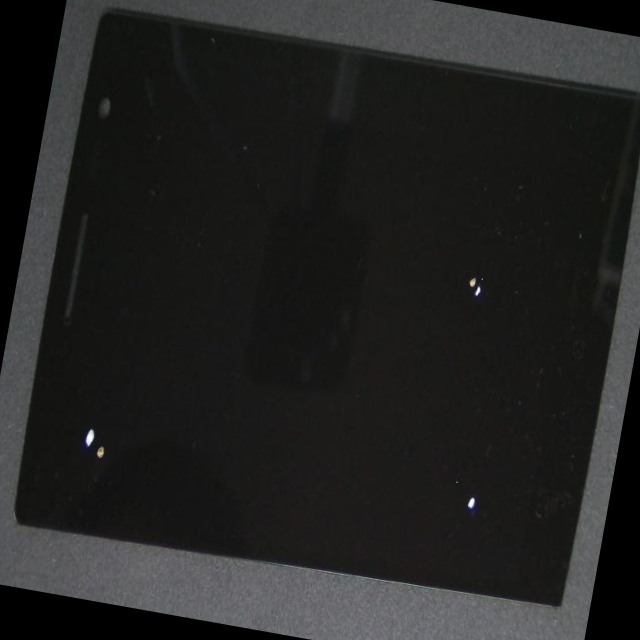stain: (218, 190, 640, 640), (223, 133, 640, 512), (5, 183, 168, 602)
